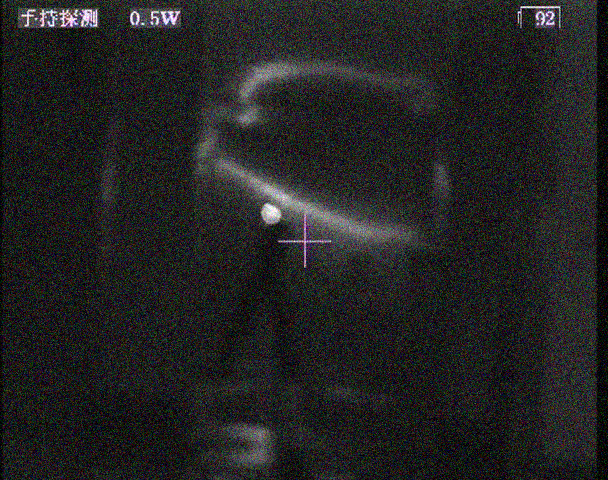my: (260, 199, 283, 225)
